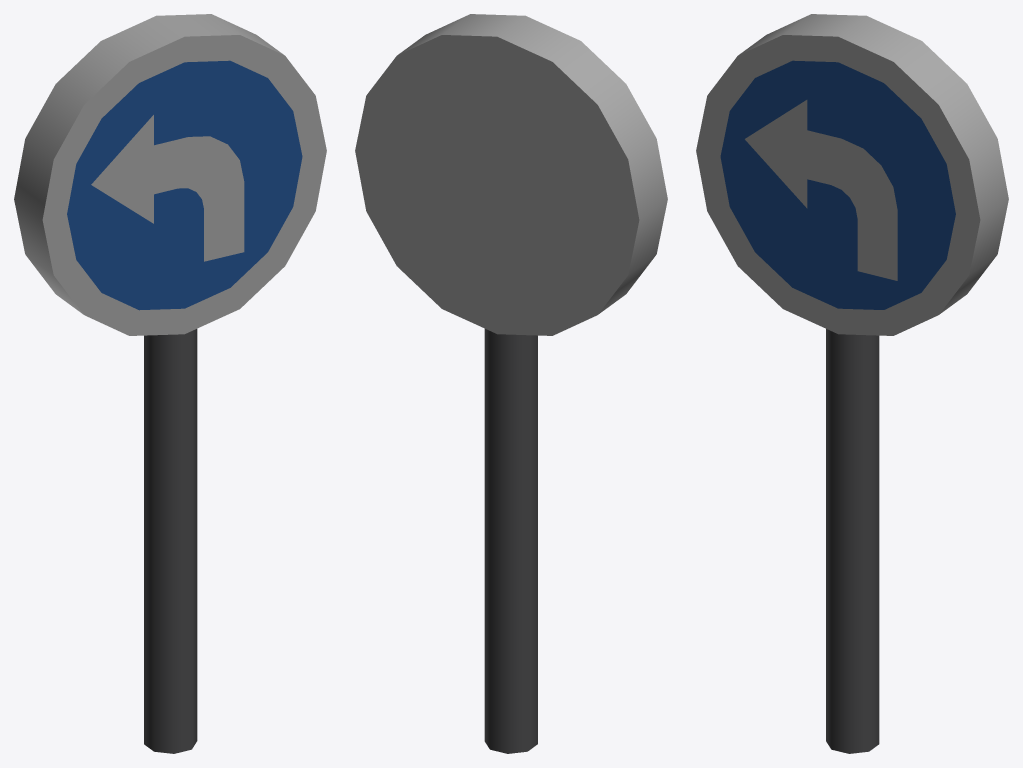
Rendered from roadsign_v3.fbx.
3 renders of one model, left to right at view 1: azimuth 30°, elevation 25°; view 2: azimuth 150°, elevation 25°; view 3: azimuth 330°, elevation 25°, orthographic.
Parts seen in each view (by area): view 1: roadsign_v3; view 2: roadsign_v3; view 3: roadsign_v3.
Boxes of the visible parts, left/top/right/bottom form: roadsign_v3: left=14, top=14, right=326, bottom=753; roadsign_v3: left=355, top=14, right=667, bottom=753; roadsign_v3: left=696, top=14, right=1008, bottom=753.
Bounding box in the file's own units: 116 × 280 × 20.22.
